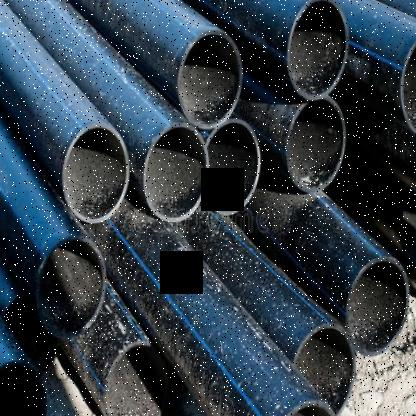pipe: (37, 236, 106, 336), (142, 124, 209, 223), (63, 123, 129, 223), (345, 256, 409, 356), (178, 30, 242, 127), (286, 0, 348, 98), (293, 323, 356, 416), (286, 97, 346, 192), (204, 119, 260, 215), (104, 341, 169, 416), (0, 360, 48, 416), (273, 397, 342, 416)
